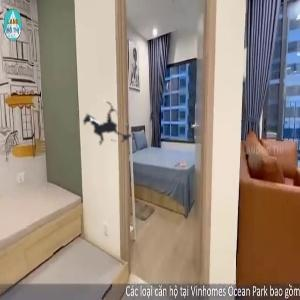drone: (60, 77, 159, 176)
